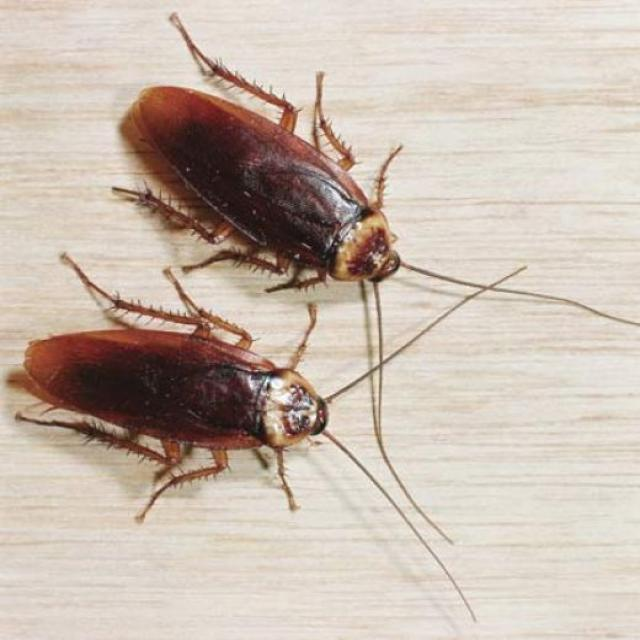Cockroach: (92, 11, 441, 323), (3, 260, 363, 523)
